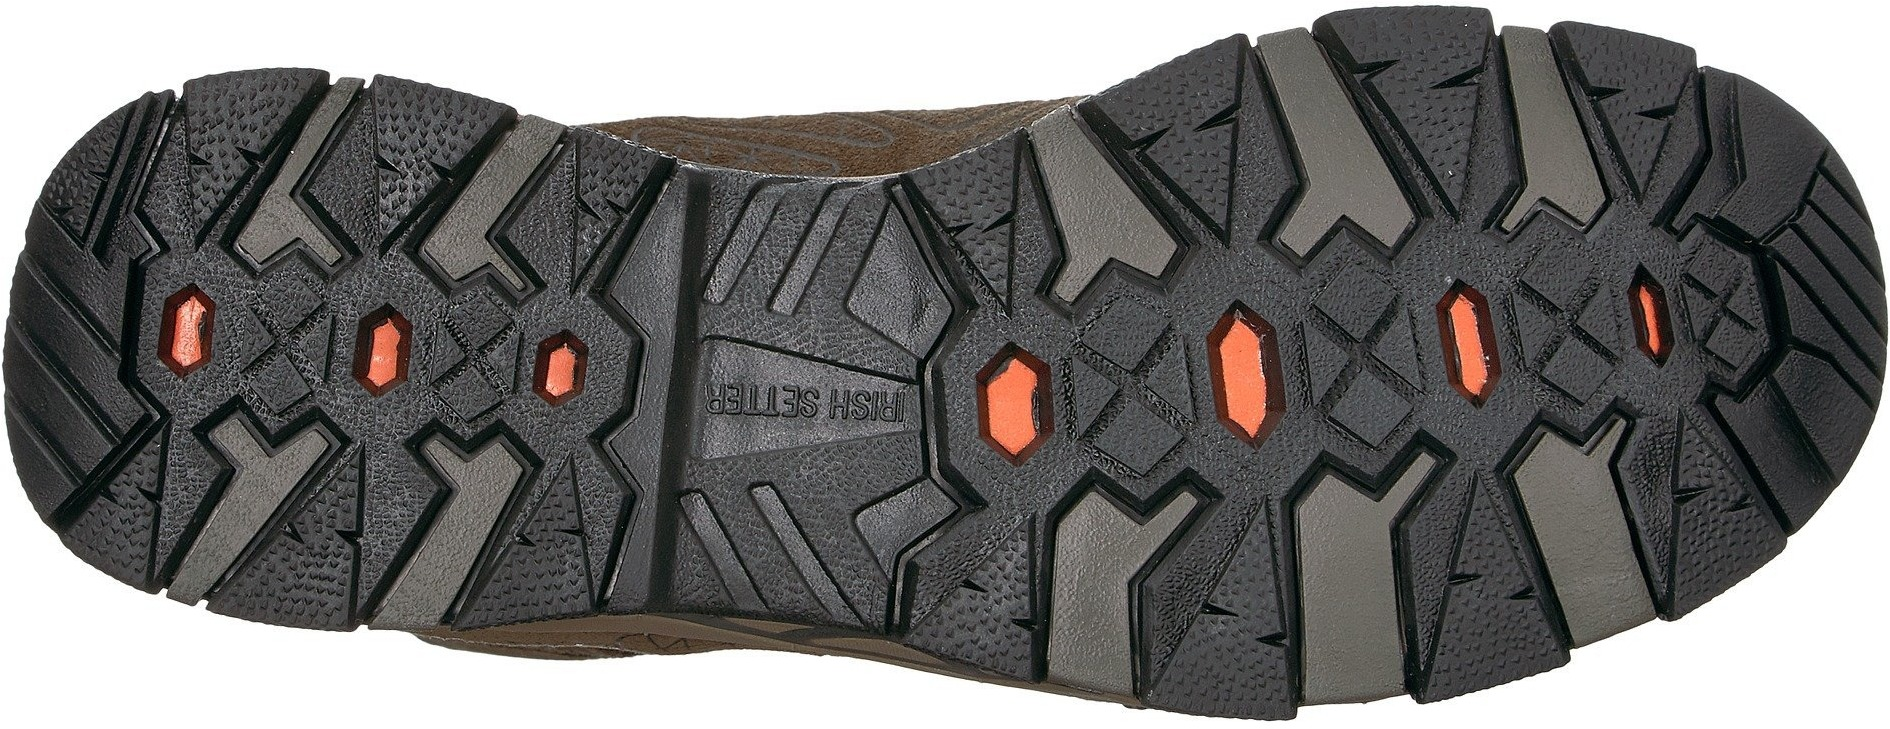quad: (4, 284, 122, 451), (1301, 248, 1414, 364)
text: (705, 343, 822, 453), (840, 359, 915, 436)
